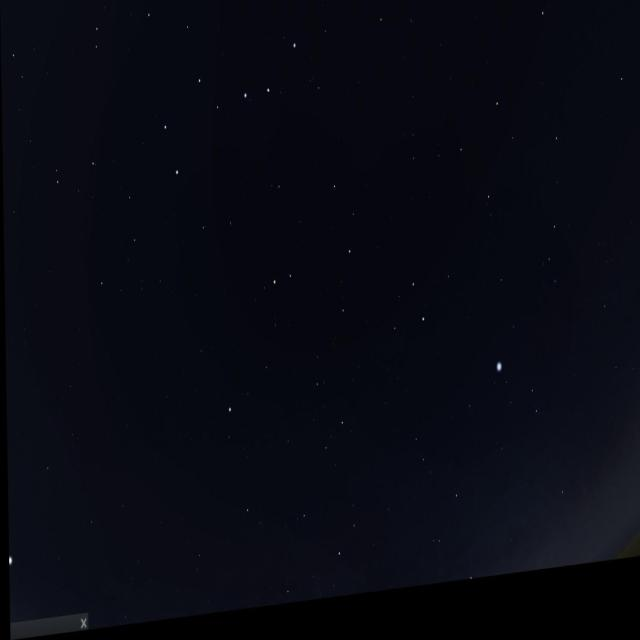lyra: (484, 352, 545, 454)
ursa_major: (150, 34, 306, 195)
